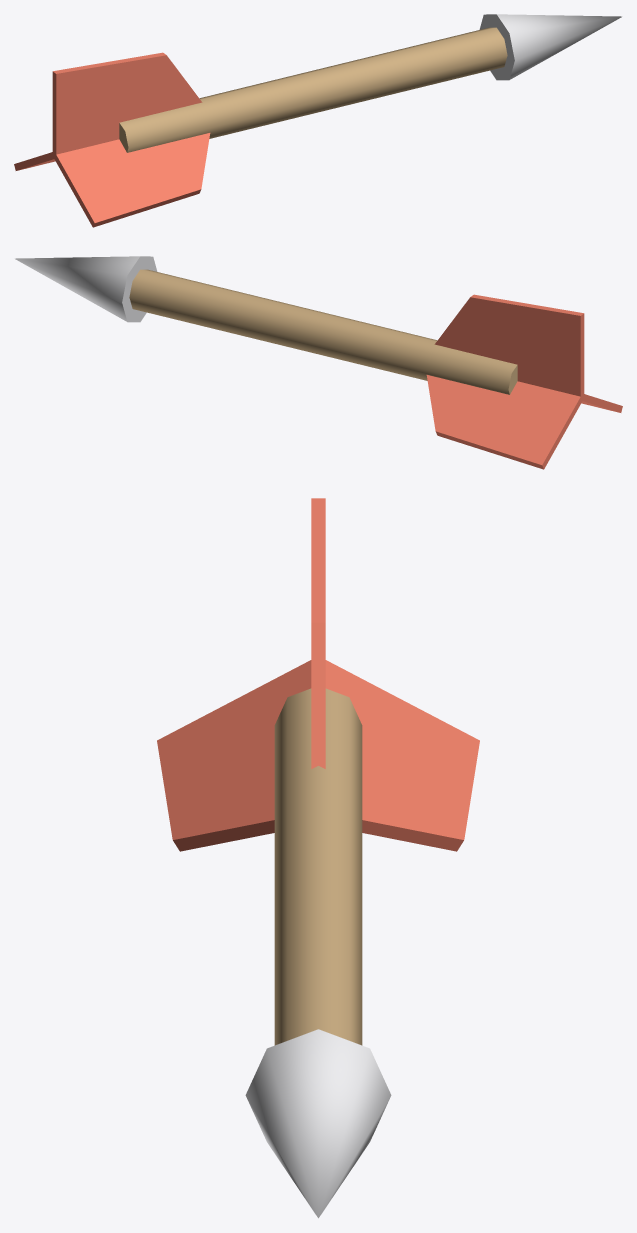
The model's file is dart.glb.
The picture shows the model from 3 angles, top to bottom: view 1: azimuth 30°, elevation 25°; view 2: azimuth 150°, elevation 25°; view 3: azimuth 270°, elevation 25°; orthographic projection. The views are drawn at different scales.
Parts seen in each view (by area): view 1: dart; view 2: dart; view 3: dart.
Part boxes in pixels (left/top/right/bottom): dart: left=14, top=14, right=621, bottom=227; dart: left=15, top=256, right=622, bottom=469; dart: left=157, top=498, right=479, bottom=1218.
Bounding box in the file's own units: 0.36 × 0.0767 × 0.0886.
